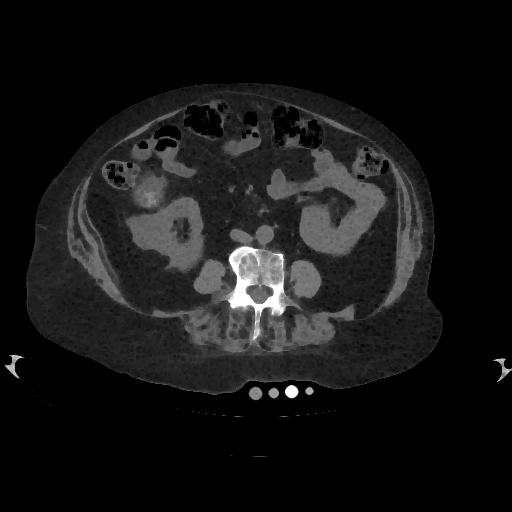Lesion: (123, 212, 172, 252)
